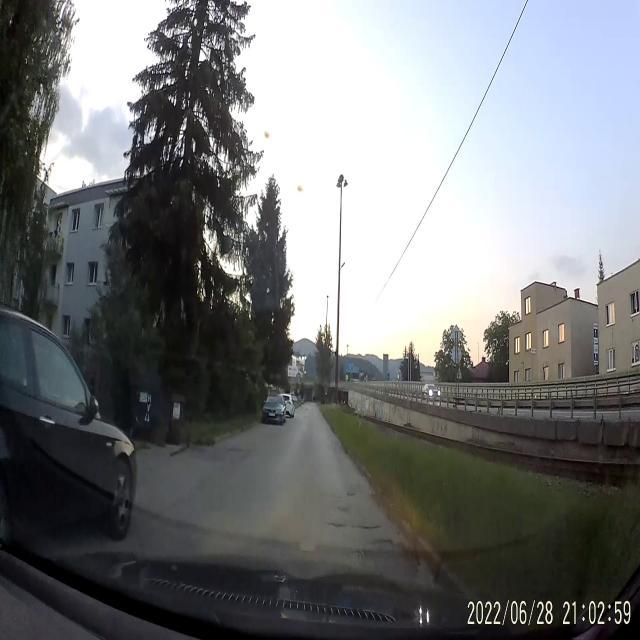Pothole: (352, 522, 384, 536), (328, 520, 347, 531)
